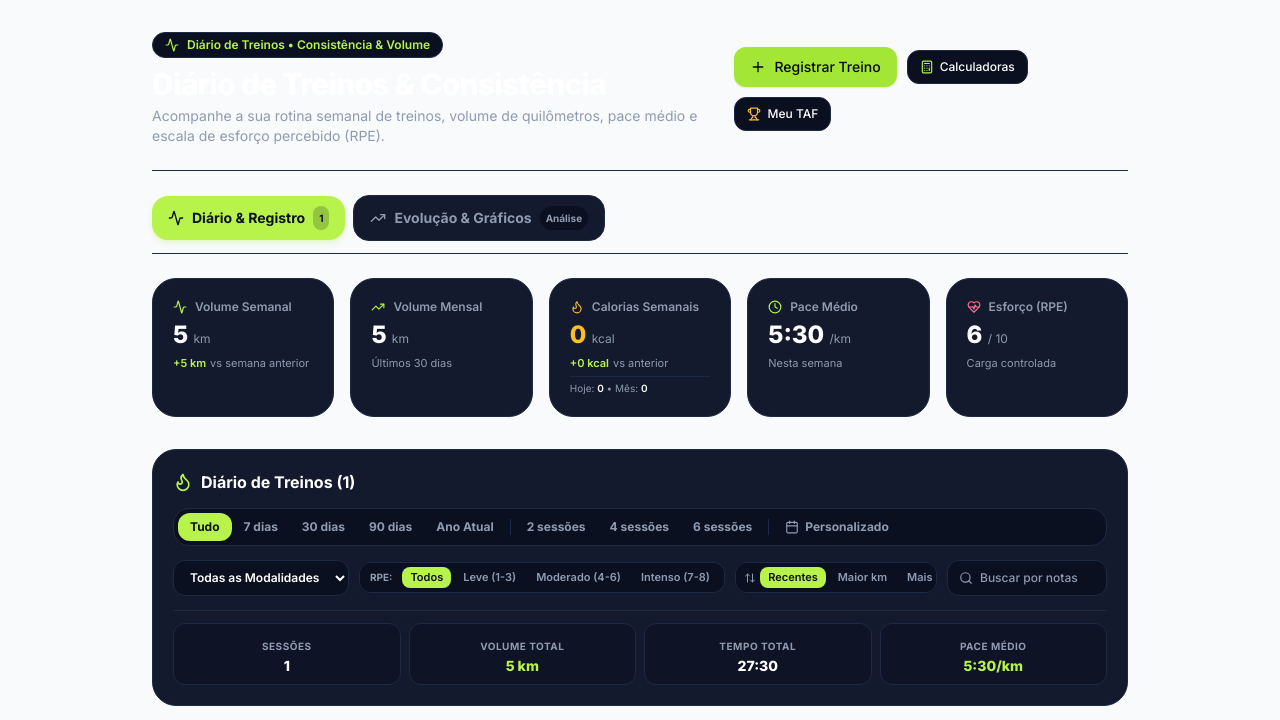
Test: TreinosPage (Fase 4 - Diário de Treinos Completo) › permite alternar entre as abas 'Diário & Registro' e 'Evolução & Gráficos'
This screenshot has width=1280, height=720.
Expected: the element with test id "kpi-weekly-volume" is shown, 152,278 -> 334,416
# Clica na aba Evolução & Gráficos
Click the tab with test id "tab-graficos": (479, 218) 354,195 -> 605,241
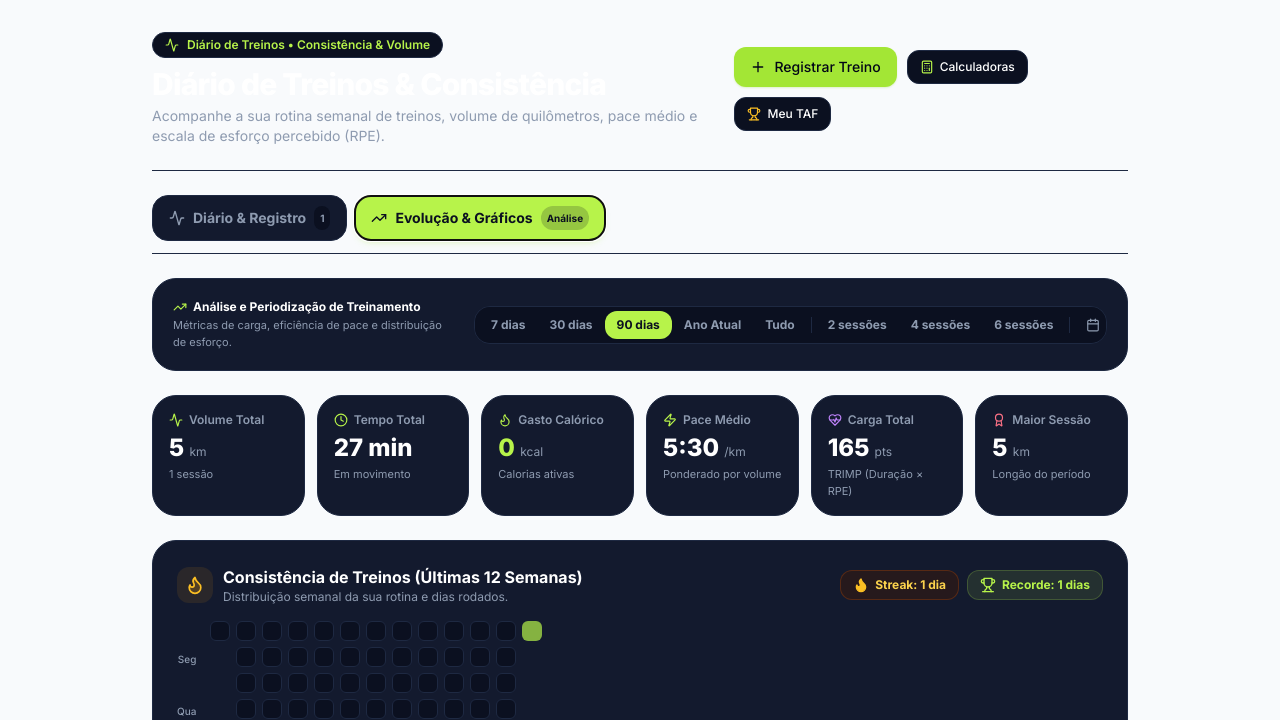
Result: the element with test id "kpi-weekly-volume" is gone
# Retorna para a aba Diário
Click the tab with test id "tab-diario": (250, 218) 152,195 -> 348,241
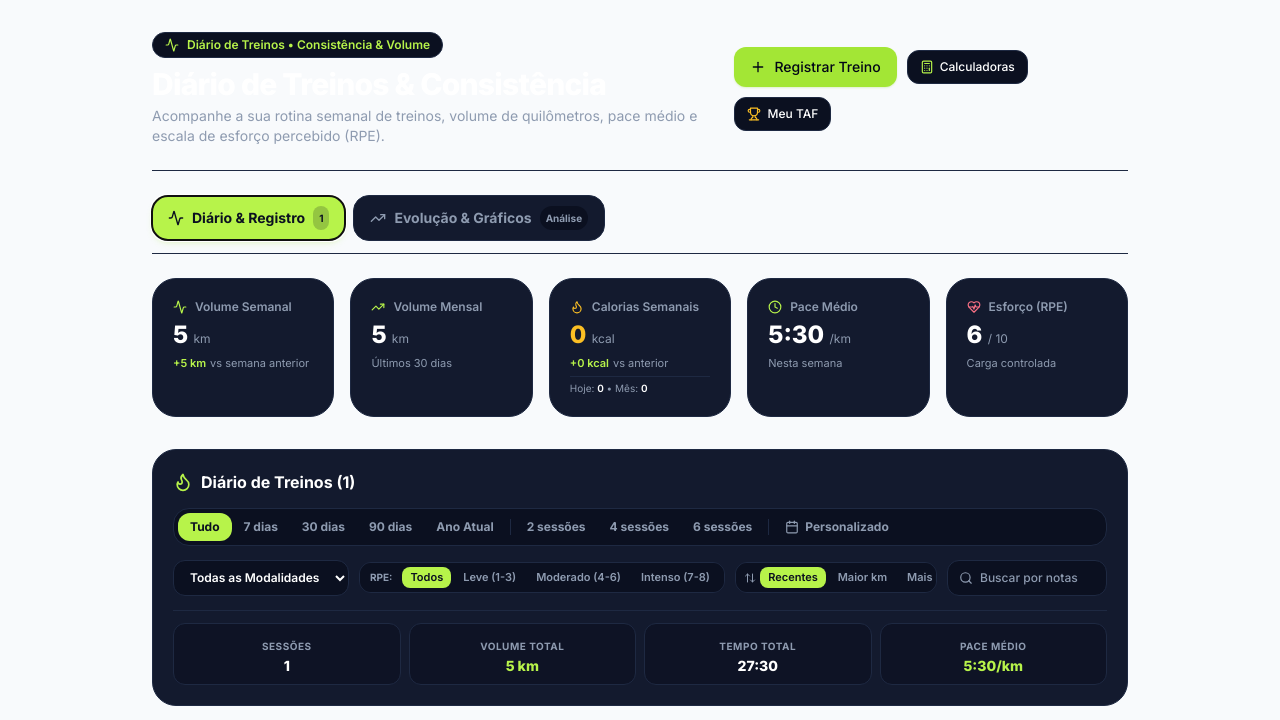
Result: the element with test id "kpi-weekly-volume" is shown at 152,278 -> 334,416
